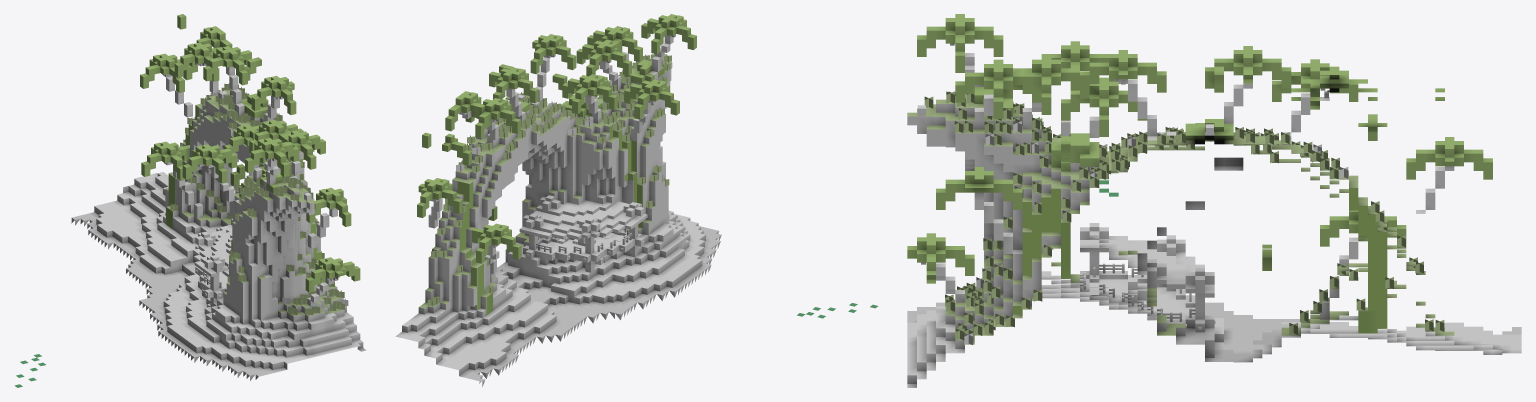
The picture shows the model from 3 angles, left to right: view 1: azimuth 30°, elevation 25°; view 2: azimuth 150°, elevation 25°; view 3: azimuth 270°, elevation 25°; orthographic projection. The views are drawn at different scales.
Visible parts, largest first — view 1: opaco, recorte; view 2: opaco, recorte; view 3: recorte, opaco.
Part boxes in pixels (<box>): opaco: <box>71,63,366,380</box>; recorte: <box>14,14,360,387</box>; opaco: <box>395,35,721,386</box>; recorte: <box>417,14,878,318</box>; recorte: <box>907,14,1492,348</box>; opaco: <box>907,53,1521,387</box>.
Bounding box in the file's own units: 54.2 × 38 × 64.
